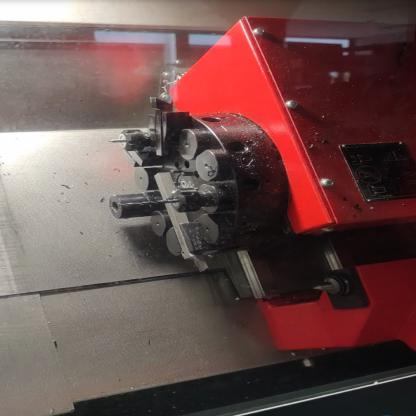bit: (149, 168, 230, 277), (142, 94, 197, 158), (115, 124, 160, 170)
